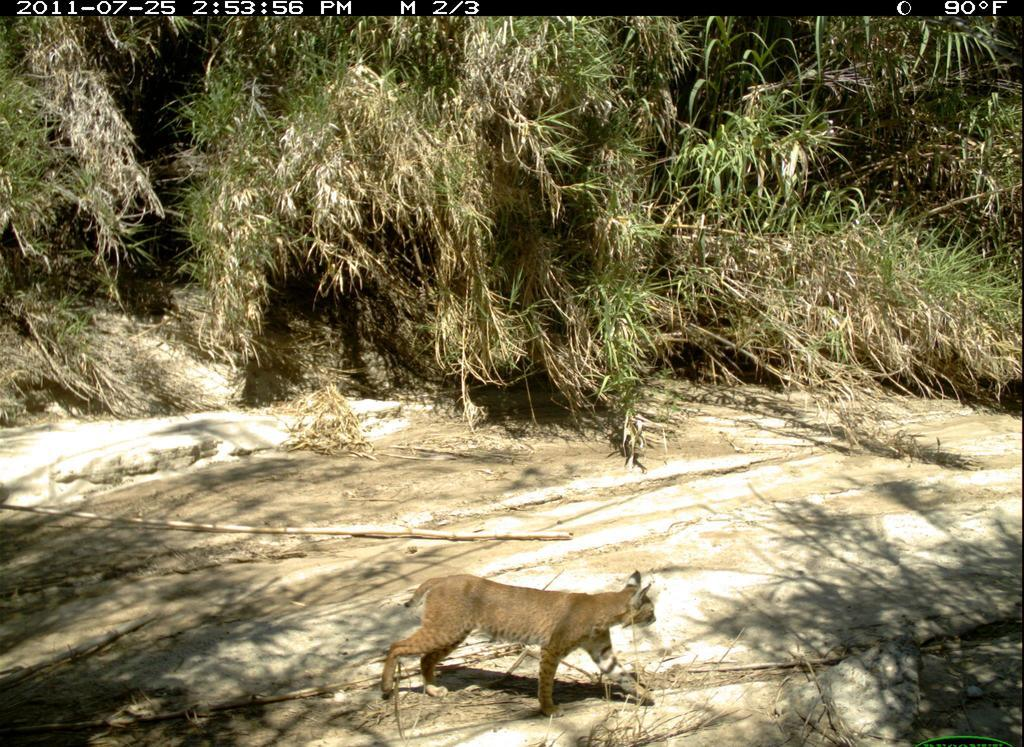bobcat: (370, 561, 673, 731)
